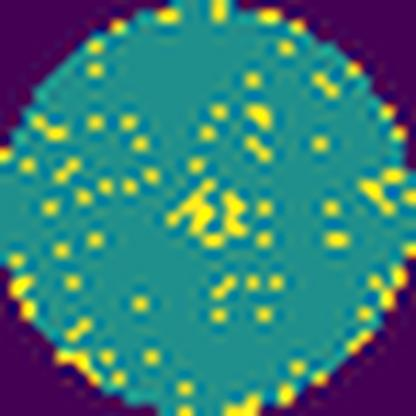Center: (164, 179, 254, 252)
